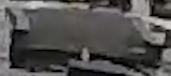bag: (4, 4, 163, 76)
